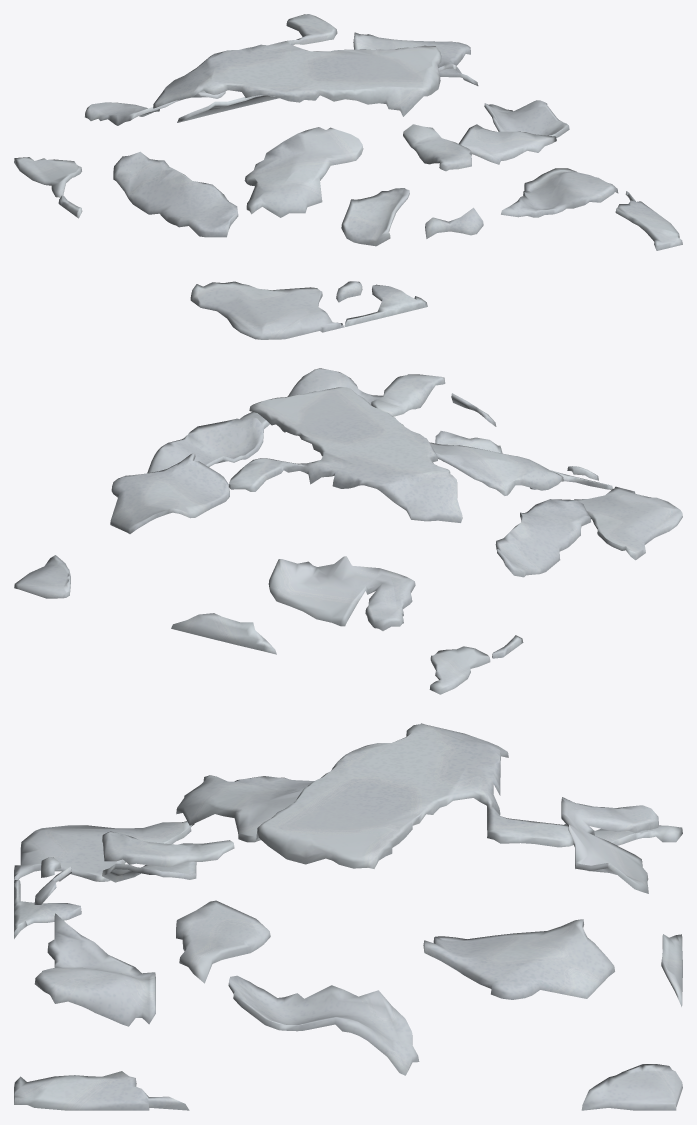
Rendered from Canions_1_Snow.fbx.
The picture shows the model from 3 angles, top to bottom: view 1: azimuth 30°, elevation 25°; view 2: azimuth 150°, elevation 25°; view 3: azimuth 270°, elevation 25°; orthographic projection. The views are drawn at different scales.
Parts seen in each view (by area): view 1: Canions_1_Snow_LOD0; view 2: Canions_1_Snow_LOD0; view 3: Canions_1_Snow_LOD0.
Boxes of the visible parts, bbox=[...] form: Canions_1_Snow_LOD0: bbox=[14, 14, 682, 339]; Canions_1_Snow_LOD0: bbox=[14, 368, 682, 694]; Canions_1_Snow_LOD0: bbox=[14, 723, 682, 1110].
Size of what is drawn, in the model's own units: 990 by 281 by 990.
